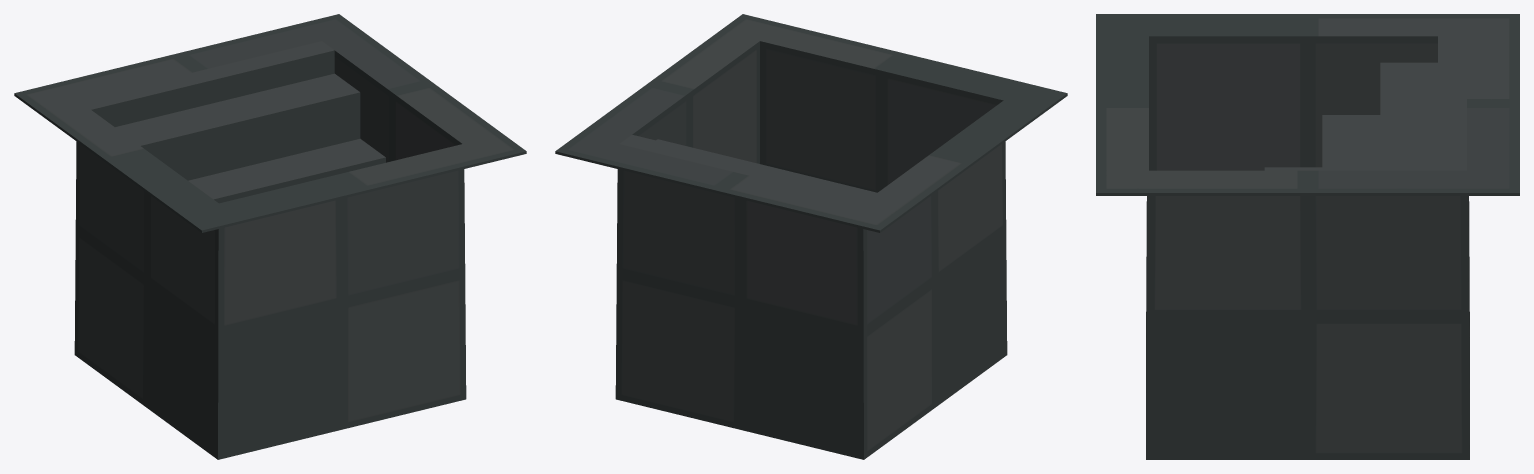
The model's file is Stairs_Down_1x1.fbx.
3 views of the same model, side by side, from view 1: azimuth 30°, elevation 25°; view 2: azimuth 150°, elevation 25°; view 3: azimuth 270°, elevation 25° (orthographic). The views are drawn at different scales.
Parts seen in each view (by area): view 1: Stairs Down 1x1; view 2: Stairs Down 1x1; view 3: Stairs Down 1x1.
Part boxes in pixels (<box>): Stairs Down 1x1: <box>14,14,526,459</box>; Stairs Down 1x1: <box>555,14,1067,459</box>; Stairs Down 1x1: <box>1096,14,1519,459</box>.
Bounding box in the file's own units: 100 × 75 × 100.
